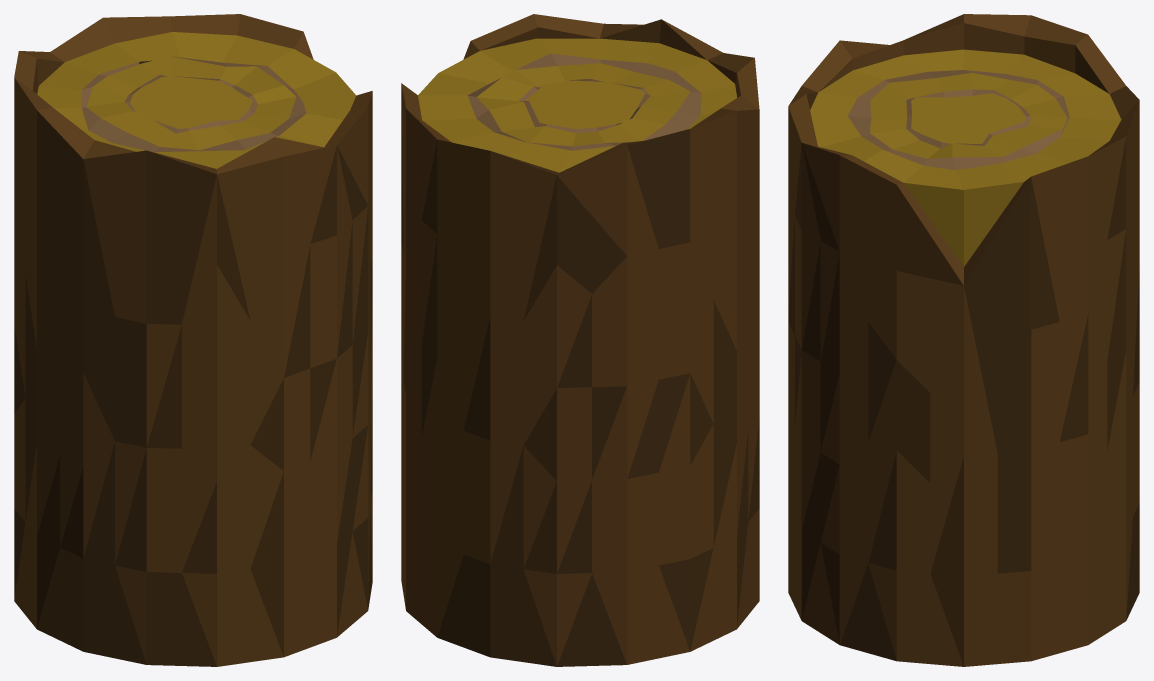
File: log.fbx
3 views of the same model, side by side, from view 1: azimuth 30°, elevation 25°; view 2: azimuth 150°, elevation 25°; view 3: azimuth 270°, elevation 25° (orthographic). The views are drawn at different scales.
Parts seen in each view (by area): view 1: Cylinder.001, Cylinder; view 2: Cylinder.001, Cylinder; view 3: Cylinder.001, Cylinder.
Part boxes in pixels (x1=…): Cylinder.001: x1=14, y1=78, x2=372, y2=666; Cylinder: x1=14, y1=14, x2=372, y2=174; Cylinder.001: x1=401, y1=83, x2=759, y2=666; Cylinder: x1=401, y1=14, x2=759, y2=174; Cylinder.001: x1=788, y1=100, x2=1139, y2=666; Cylinder: x1=788, y1=14, x2=1139, y2=285.
Size of the model in its own units: 200 by 320 by 200.
